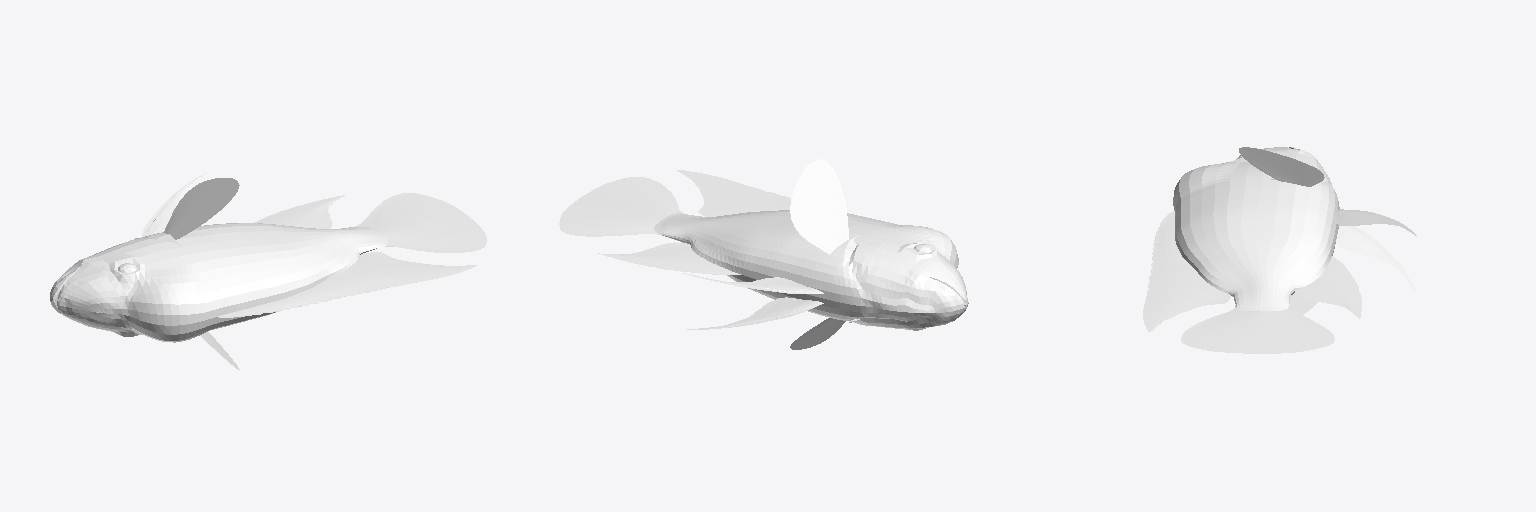
The model's file is RedDevil.obj.
3 views of the same model, side by side, from view 1: azimuth 30°, elevation 25°; view 2: azimuth 150°, elevation 25°; view 3: azimuth 270°, elevation 25° (orthographic).
Bounding box in the file's own units: 0.3989 × 0.176 × 0.2366.